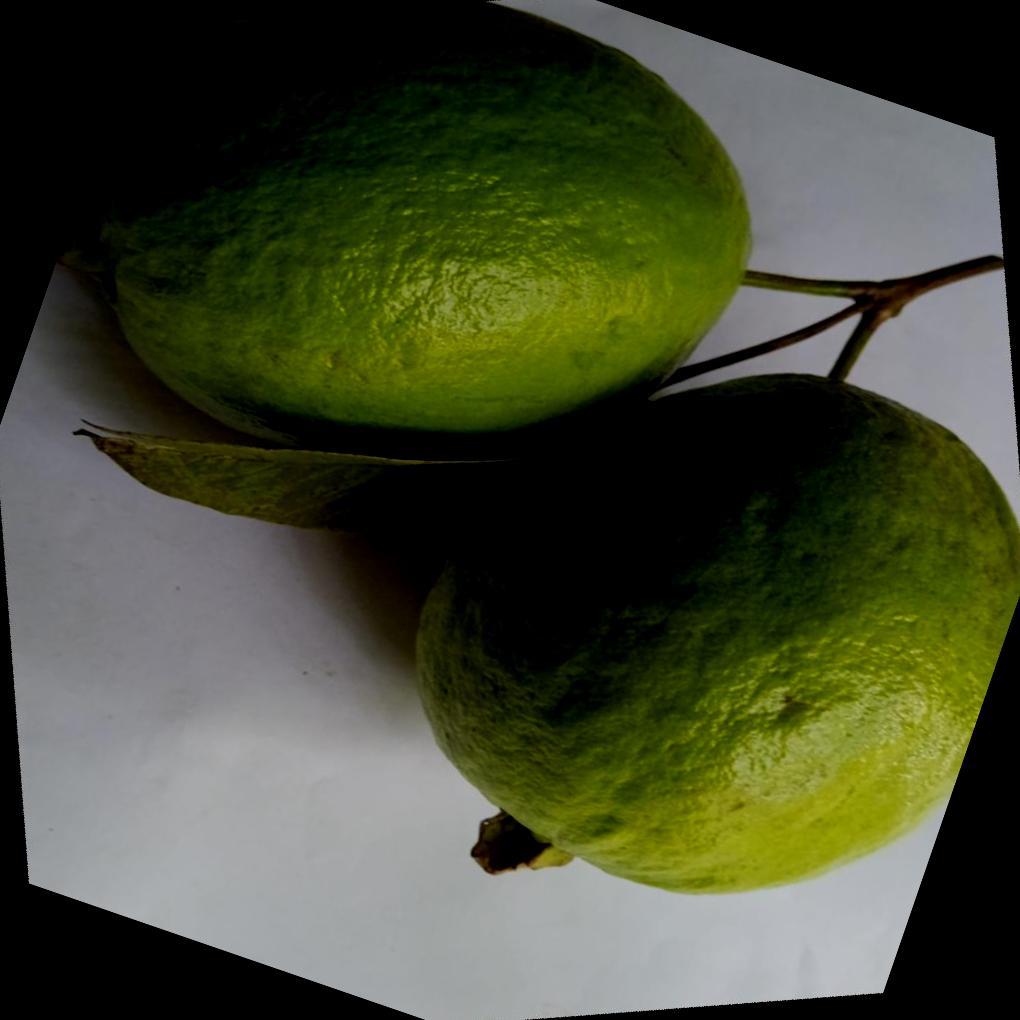FreshGuava: (60, 3, 1020, 901)
